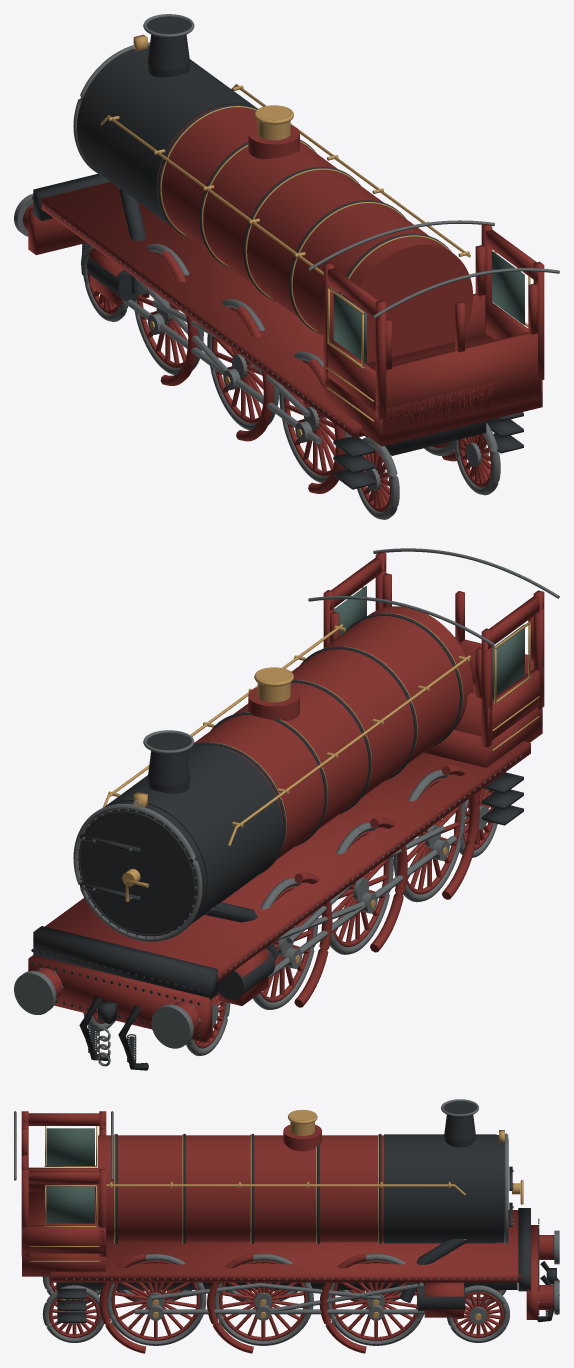
The model's file is locomotive.glb.
3 views of the same model, one above another, from view 1: azimuth 30°, elevation 25°; view 2: azimuth 150°, elevation 25°; view 3: azimuth 270°, elevation 25° (orthographic). The views are drawn at different scales.
Parts seen in each view (by area): view 1: locomotive_scarlet.002, locomotive_black.002, locomotive_steel.002, locomotive_brass.002, locomotive_glass.002; view 2: locomotive_scarlet.002, locomotive_black.002, locomotive_steel.002, locomotive_brass.002, locomotive_glass.002, locomotive_soot.002; view 3: locomotive_scarlet.002, locomotive_black.002, locomotive_steel.002, locomotive_brass.002, locomotive_glass.002.
Boxes of the visible parts, <box> form: locomotive_scarlet.002: <box>23,105,544,512</box>; locomotive_black.002: <box>23,16,523,489</box>; locomotive_steel.002: <box>14,14,559,519</box>; locomotive_brass.002: <box>100,34,530,478</box>; locomotive_glass.002: <box>333,251,524,363</box>; locomotive_scarlet.002: <box>28,552,544,1048</box>; locomotive_black.002: <box>31,613,523,1063</box>; locomotive_steel.002: <box>14,548,559,1066</box>; locomotive_brass.002: <box>102,586,539,963</box>; locomotive_glass.002: <box>334,586,524,698</box>; locomotive_soot.002: <box>79,996,148,1070</box>; locomotive_scarlet.002: <box>21,1111,553,1353</box>; locomotive_black.002: <box>56,1101,556,1322</box>; locomotive_steel.002: <box>14,1099,559,1345</box>; locomotive_brass.002: <box>30,1109,523,1320</box>; locomotive_glass.002: <box>46,1128,94,1223</box>.
Size of the model in its own units: 3.06 by 4.68 by 10.41.
